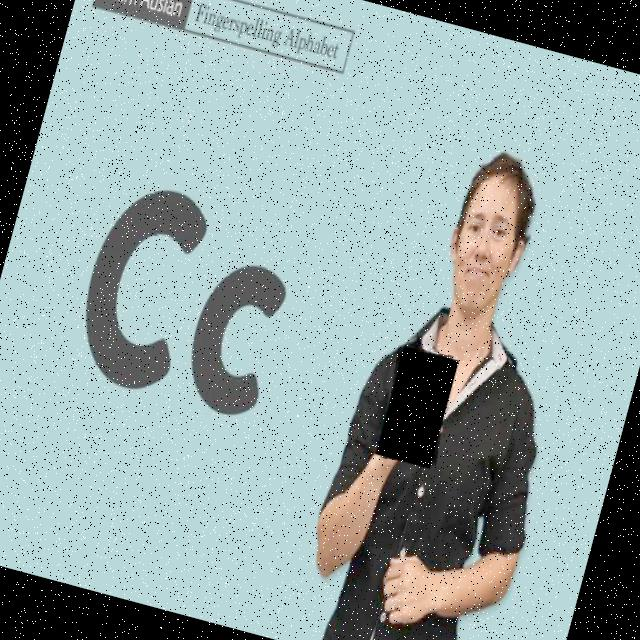C: (374, 345, 463, 472)
